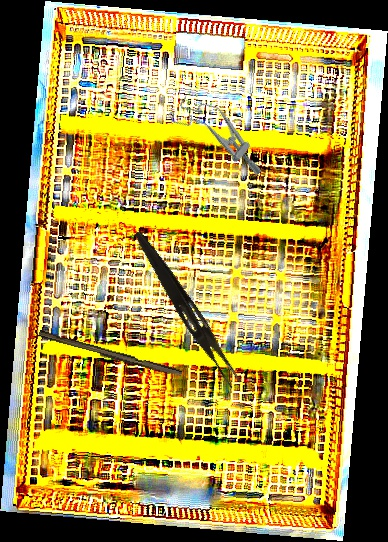Dressing Forceps: (125, 228, 248, 390)
Scalpel Handle: (37, 330, 183, 379)
Speculum: (166, 86, 276, 183)
